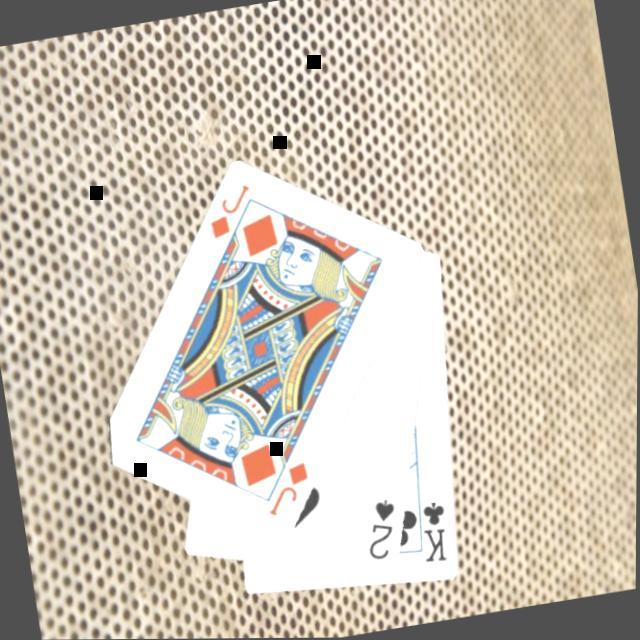2S: (361, 496, 409, 567)
JD: (261, 460, 320, 522), (204, 182, 262, 245)
KC: (410, 492, 460, 570)
